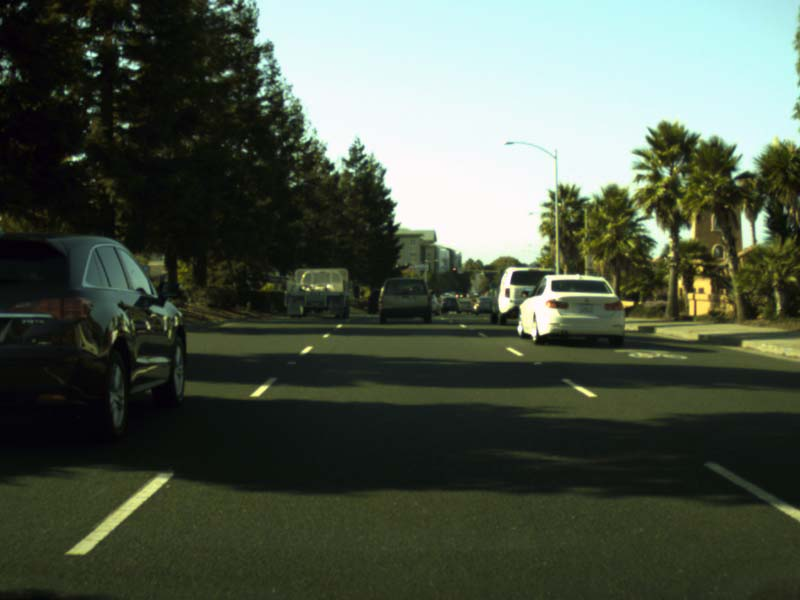Red: (451, 266, 455, 275)
